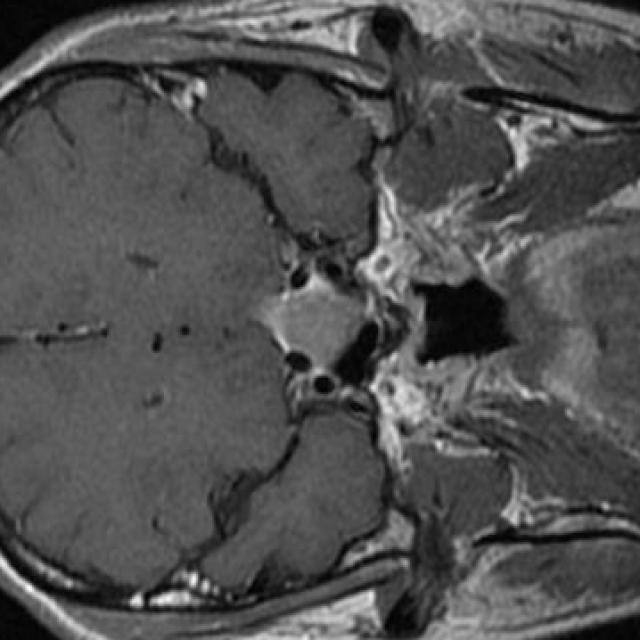pituitary: (266, 275, 365, 365)
